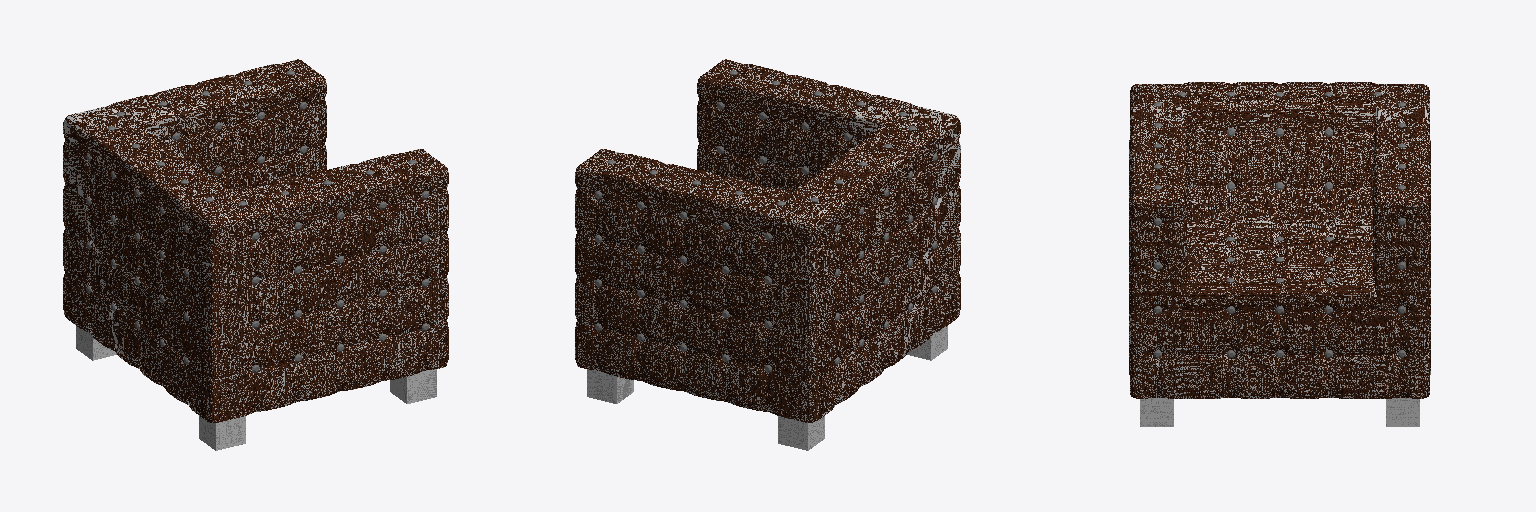
3 views of the same model, side by side, from view 1: azimuth 30°, elevation 25°; view 2: azimuth 150°, elevation 25°; view 3: azimuth 270°, elevation 25° (orthographic).
Visible parts, largest first — view 1: mesh11.012_mesh11-geometry, mesh11.011_mesh11-geometry, mesh11.010_mesh11-geometry, mesh11.009_mesh11-geometry, mesh12.003_mesh12-geometry, mesh1.092_mesh1-geometry, mesh1.090_mesh1-geometry, mesh1.091_mesh1-geometry, mesh1.089_mesh1-geometry, mesh1.116_mesh1-geometry, mesh1.102_mesh1-geometry, mesh1.096_mesh1-geometry (+28 smaller); view 2: mesh22.012_mesh22-geometry, mesh22.011_mesh22-geometry, mesh22.010_mesh22-geometry, mesh22.009_mesh22-geometry, mesh23.003_mesh23-geometry, mesh8.110_mesh8-geometry, mesh8.108_mesh8-geometry, mesh8.109_mesh8-geometry, mesh8.107_mesh8-geometry, mesh8.090_mesh8-geometry, mesh8.120_mesh8-geometry, mesh8.114_mesh8-geometry (+28 smaller); view 3: mesh24.006_mesh24-geometry, mesh13.006_mesh13-geometry, mesh24.005_mesh24-geometry, mesh13.005_mesh13-geometry, mesh1.123_mesh1-geometry, mesh8.097_mesh8-geometry, mesh1.124_mesh1-geometry, mesh8.098_mesh8-geometry, mesh8.132_mesh8-geometry, mesh1.114_mesh1-geometry, mesh8.131_mesh8-geometry, mesh1.113_mesh1-geometry (+28 smaller).
Boxes of the visible parts, x1=… form: mesh11.012_mesh11-geometry: x1=185, y1=363, x2=255, y2=422; mesh11.011_mesh11-geometry: x1=185, y1=319, x2=255, y2=378; mesh11.010_mesh11-geometry: x1=185, y1=275, x2=255, y2=334; mesh11.009_mesh11-geometry: x1=185, y1=231, x2=255, y2=290; mesh12.003_mesh12-geometry: x1=185, y1=194, x2=255, y2=246; mesh1.092_mesh1-geometry: x1=255, y1=359, x2=298, y2=411; mesh1.090_mesh1-geometry: x1=340, y1=339, x2=383, y2=390; mesh1.091_mesh1-geometry: x1=297, y1=349, x2=340, y2=401; mesh1.089_mesh1-geometry: x1=382, y1=328, x2=425, y2=380; mesh1.116_mesh1-geometry: x1=218, y1=117, x2=261, y2=168; mesh1.102_mesh1-geometry: x1=340, y1=206, x2=383, y2=258; mesh1.096_mesh1-geometry: x1=340, y1=295, x2=383, y2=346; mesh22.012_mesh22-geometry: x1=768, y1=363, x2=838, y2=422; mesh22.011_mesh22-geometry: x1=768, y1=319, x2=838, y2=378; mesh22.010_mesh22-geometry: x1=768, y1=275, x2=838, y2=334; mesh22.009_mesh22-geometry: x1=768, y1=231, x2=838, y2=290; mesh23.003_mesh23-geometry: x1=768, y1=194, x2=838, y2=246; mesh8.110_mesh8-geometry: x1=725, y1=359, x2=768, y2=411; mesh8.108_mesh8-geometry: x1=640, y1=339, x2=683, y2=390; mesh8.109_mesh8-geometry: x1=683, y1=349, x2=726, y2=401; mesh8.107_mesh8-geometry: x1=598, y1=328, x2=641, y2=380; mesh8.090_mesh8-geometry: x1=762, y1=117, x2=805, y2=168; mesh8.120_mesh8-geometry: x1=640, y1=206, x2=683, y2=258; mesh8.114_mesh8-geometry: x1=640, y1=295, x2=683, y2=346; mesh24.006_mesh24-geometry: x1=1329, y1=354, x2=1401, y2=398; mesh13.006_mesh13-geometry: x1=1158, y1=354, x2=1230, y2=398; mesh24.005_mesh24-geometry: x1=1329, y1=310, x2=1401, y2=354; mesh13.005_mesh13-geometry: x1=1158, y1=310, x2=1230, y2=354; mesh1.123_mesh1-geometry: x1=1280, y1=133, x2=1328, y2=186; mesh8.097_mesh8-geometry: x1=1231, y1=133, x2=1279, y2=186; mesh1.124_mesh1-geometry: x1=1329, y1=133, x2=1374, y2=186; mesh8.098_mesh8-geometry: x1=1185, y1=133, x2=1230, y2=186; mesh8.132_mesh8-geometry: x1=1280, y1=354, x2=1328, y2=398; mesh1.114_mesh1-geometry: x1=1231, y1=354, x2=1279, y2=398; mesh8.131_mesh8-geometry: x1=1280, y1=310, x2=1328, y2=354; mesh1.113_mesh1-geometry: x1=1231, y1=310, x2=1279, y2=354.
Bounding box in the file's own units: 0.5745 × 0.532 × 0.622.
Materials: 5 (1 with a texture image).